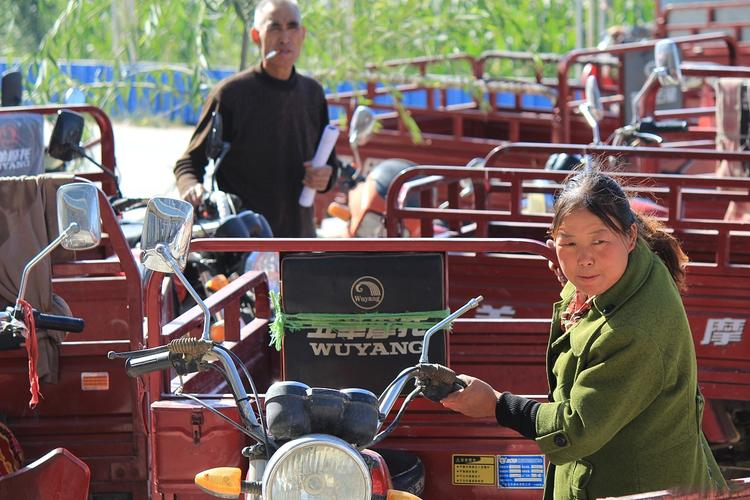driver: (506, 153, 742, 500)
only_driver: (185, 153, 750, 500)
